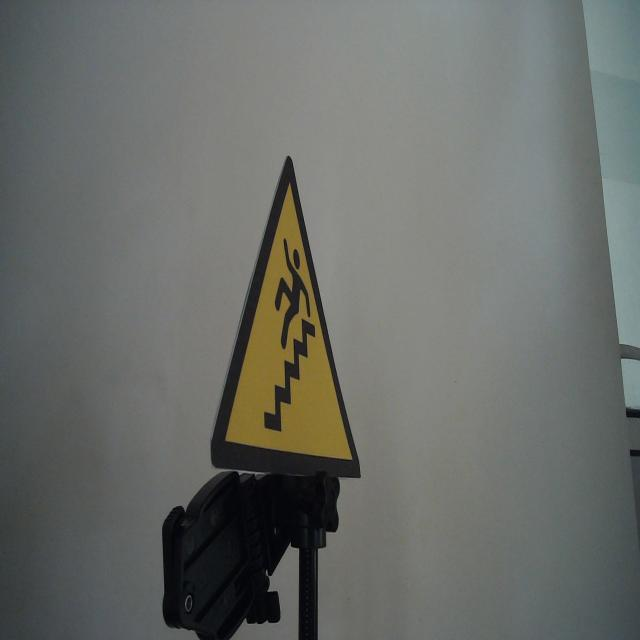stairs: (209, 152, 363, 481)
